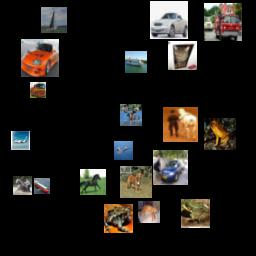airplane: (114, 141, 133, 160), (11, 131, 30, 150)
automobile: (21, 39, 59, 77), (150, 1, 188, 39), (153, 150, 188, 185)
cat: (168, 41, 197, 70), (138, 201, 160, 223)
deer: (120, 104, 142, 126)
dog: (120, 166, 152, 198)
frog: (204, 118, 236, 150), (104, 204, 133, 233), (181, 199, 210, 228)
ship: (41, 7, 67, 33), (125, 51, 147, 73), (34, 178, 50, 194)
truck: (204, 3, 242, 41), (30, 82, 46, 98)
